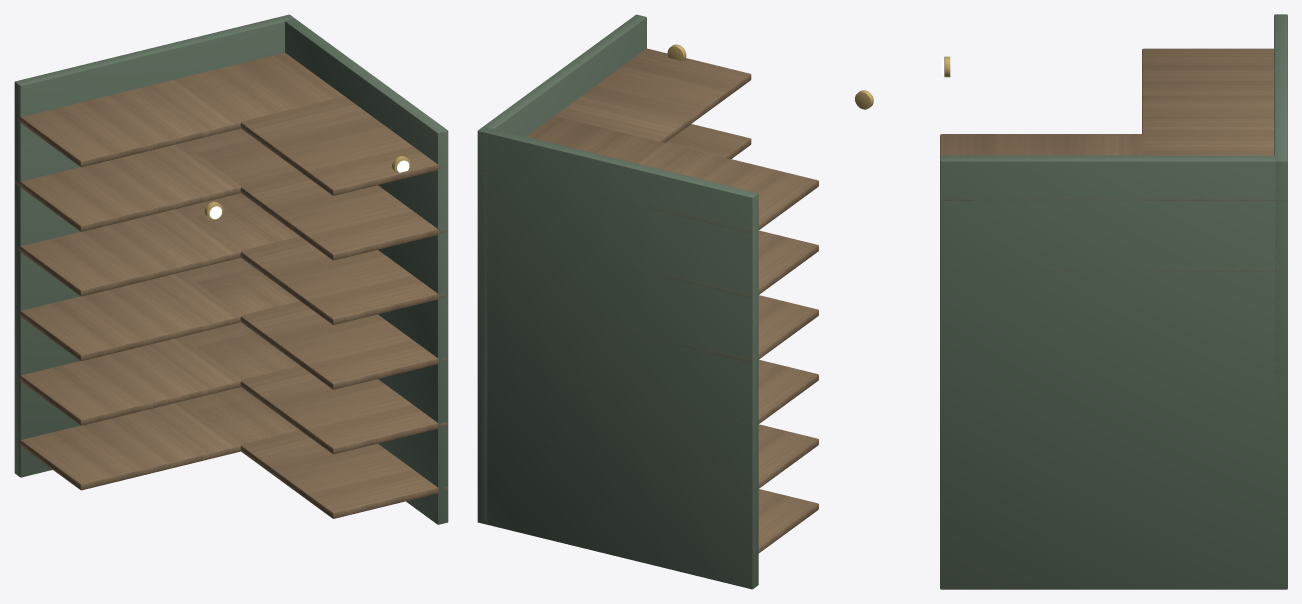
Rendered from pf_display_corner_shelving_t3.glb.
The picture shows the model from 3 angles, left to right: view 1: azimuth 30°, elevation 25°; view 2: azimuth 150°, elevation 25°; view 3: azimuth 270°, elevation 25°; orthographic projection. The views are drawn at different scales.
Visible parts, largest first — view 1: Corner_Back_X, Corner_Back_Y, Corner_Shelf_X_06, Corner_Shelf_X_01, Corner_Shelf_X_04, Corner_Shelf_X_02, Corner_Shelf_X_03, Corner_Shelf_Y_05, Corner_Shelf_Y_02, Corner_Shelf_Y_01, Corner_Shelf_X_05, Corner_Shelf_Y_03 (+2 smaller); view 2: Corner_Back_X, Corner_Shelf_Y_06, Corner_Shelf_X_06, Corner_Back_Y, Corner_Shelf_X_04, Corner_Shelf_X_05, Corner_Shelf_X_03, Corner_Shelf_X_02, Corner_Shelf_X_01, Corner_Shelf_Y_05; view 3: Corner_Back_Y, Corner_Shelf_X_06, Corner_Shelf_Y_06, Corner_Back_X.
Part boxes in pixels (x1,y1,x2,y2): Corner_Back_X: [14, 14, 294, 477]; Corner_Back_Y: [282, 15, 448, 524]; Corner_Shelf_X_06: [16, 52, 344, 167]; Corner_Shelf_X_01: [20, 387, 299, 490]; Corner_Shelf_X_04: [16, 193, 299, 296]; Corner_Shelf_X_02: [16, 322, 299, 425]; Corner_Shelf_X_03: [18, 258, 299, 360]; Corner_Shelf_Y_05: [182, 128, 447, 260]; Corner_Shelf_Y_02: [182, 322, 447, 454]; Corner_Shelf_Y_01: [182, 387, 447, 518]; Corner_Shelf_X_05: [15, 129, 299, 231]; Corner_Shelf_Y_03: [182, 258, 446, 389]; Corner_Back_X: [477, 126, 758, 589]; Corner_Shelf_Y_06: [478, 48, 751, 191]; Corner_Shelf_X_06: [498, 116, 818, 233]; Corner_Back_Y: [478, 14, 646, 524]; Corner_Shelf_X_04: [479, 294, 818, 362]; Corner_Shelf_X_05: [531, 230, 818, 297]; Corner_Shelf_X_03: [626, 359, 818, 427]; Corner_Shelf_X_02: [479, 423, 818, 491]; Corner_Shelf_X_01: [626, 489, 818, 553]; Corner_Shelf_Y_05: [494, 124, 751, 235]; Corner_Back_Y: [940, 155, 1287, 589]; Corner_Shelf_X_06: [1142, 48, 1286, 200]; Corner_Shelf_Y_06: [940, 134, 1284, 200]; Corner_Back_X: [1274, 14, 1287, 541].
Bounding box in the file's own units: 1.5 × 2.04 × 1.5.
Materials: 5 (1 with a texture image).
